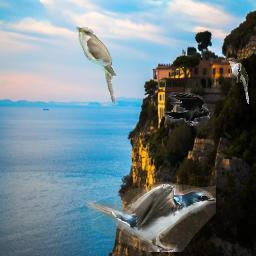Crow: (163, 92, 210, 126)
Cuckoo: (74, 25, 117, 105), (224, 57, 249, 104)
Swallow: (85, 182, 216, 252)
